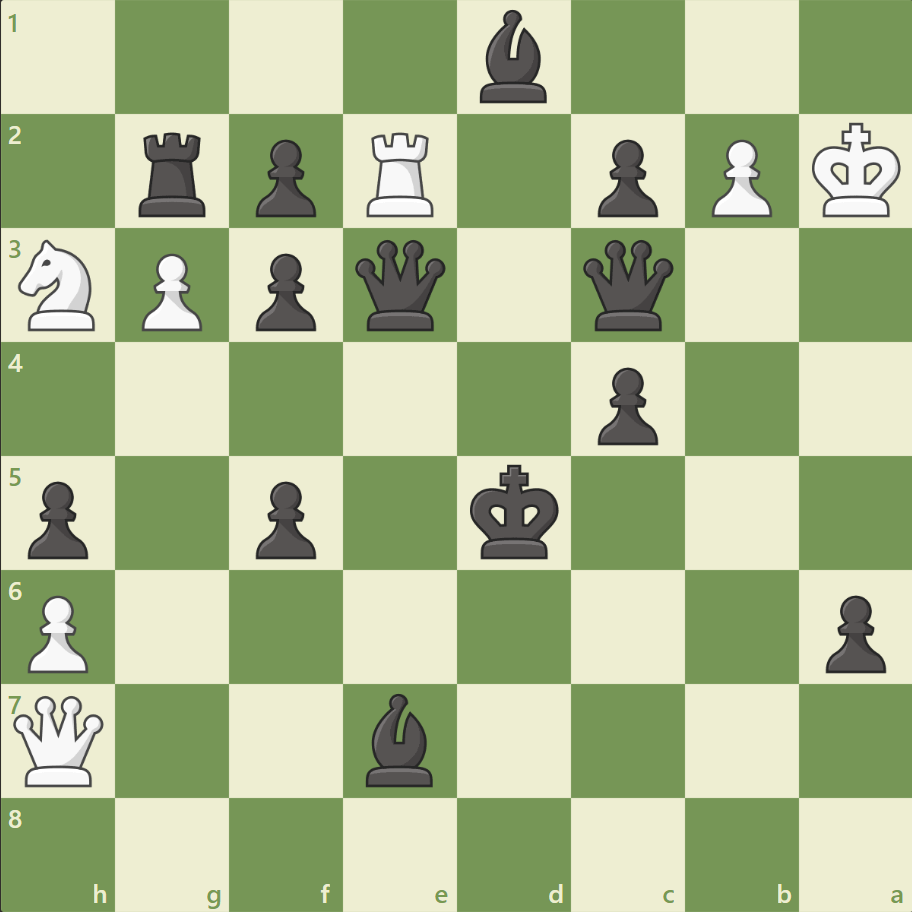K: (806, 117, 906, 225)
N: (11, 234, 108, 337)
P: (20, 586, 95, 677), (133, 246, 208, 337), (701, 132, 776, 223)
Q: (10, 690, 109, 789)
R: (360, 125, 442, 222)
b: (358, 687, 442, 790), (471, 6, 555, 109)
k: (465, 458, 565, 566)
p: (247, 473, 322, 564), (20, 473, 95, 564), (247, 246, 322, 337), (247, 132, 322, 223), (815, 586, 889, 677), (588, 359, 662, 450), (588, 132, 662, 223)
q: (578, 236, 677, 335), (351, 236, 450, 335)
r: (133, 125, 215, 222)
